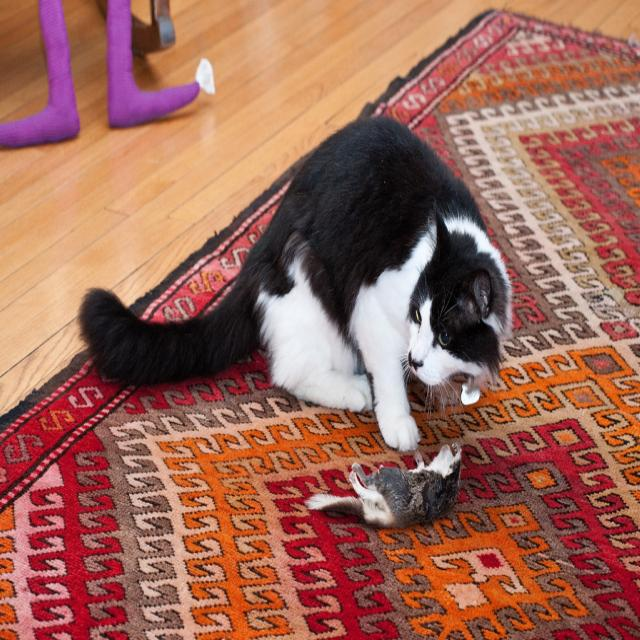Cat: (77, 110, 518, 462)
